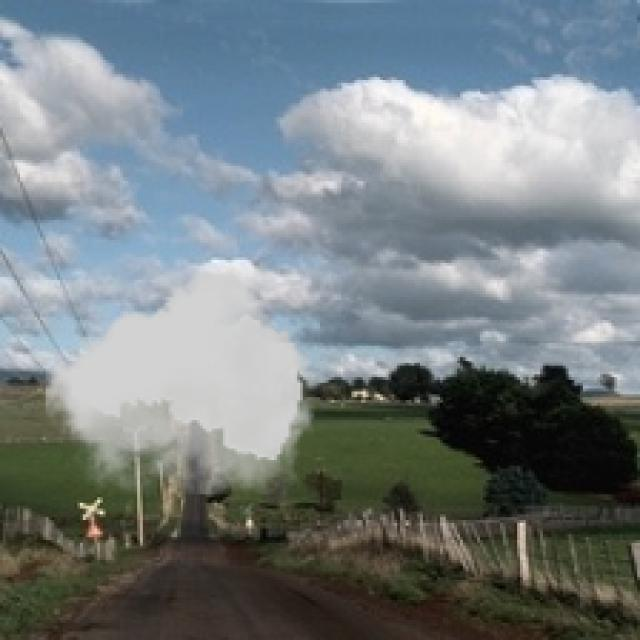smoke: (46, 272, 314, 494)
